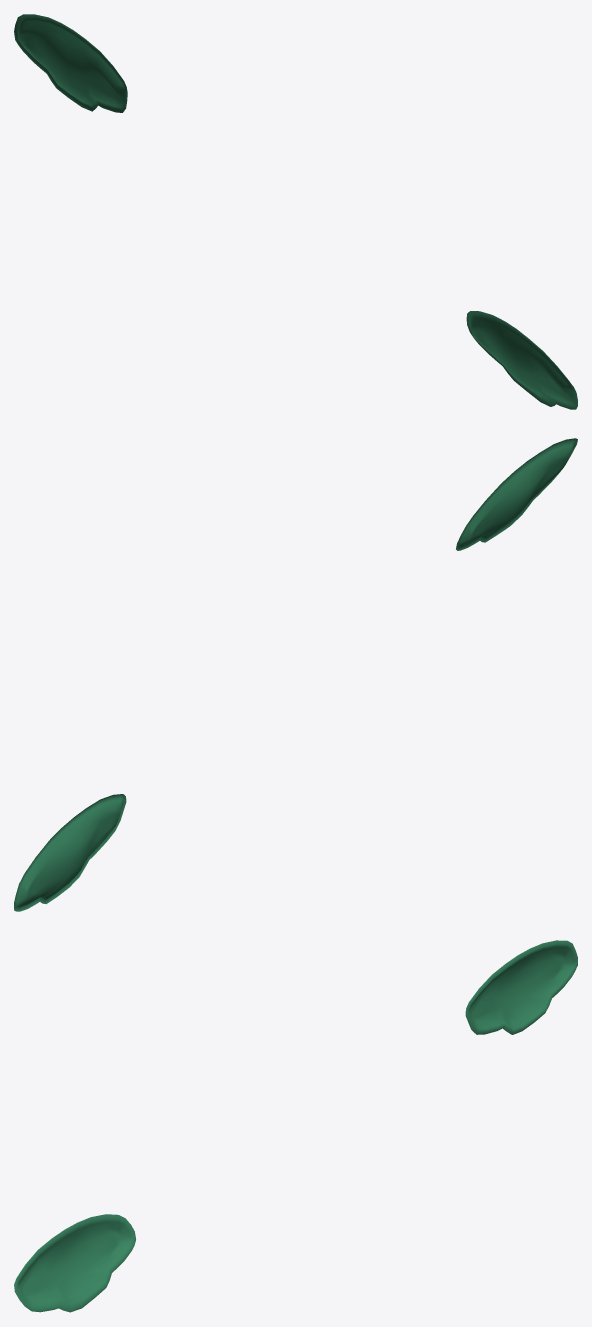
Rendered from R_cavity.glb.
The picture shows the model from 3 angles, top to bottom: view 1: azimuth 30°, elevation 25°; view 2: azimuth 150°, elevation 25°; view 3: azimuth 330°, elevation 25°; orthographic projection. The views are drawn at different scales.
Parts seen in each view (by area): view 1: R_cavity; view 2: R_cavity; view 3: R_cavity.
Part boxes in pixels (x1,y1,x2,y2): R_cavity: (14, 14, 577, 409); R_cavity: (14, 438, 577, 911); R_cavity: (14, 940, 577, 1312).
Size of the model in its own units: 0.0371 by 0.1523 by 1.32.
